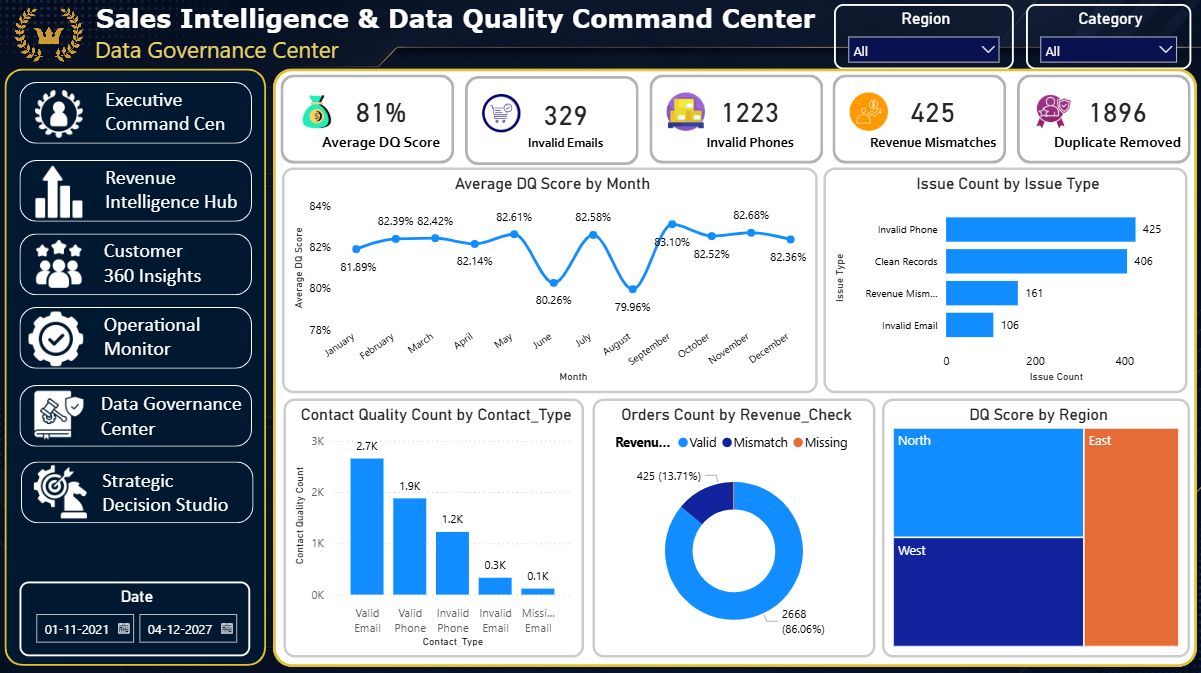

What the dashboard file says about the page in this screenshot:
{"tool":"powerbi","page":{"name":"Data Governance Center","canvas":[1280,720],"ordinal":4},"visuals":[{"type":"group","id":"g1","title":"Base","box":[0,0,1280.7,708.7],"z":0},{"type":"textbox","box":[0,0,1280.7,80.9],"z":0,"group":"g18"},{"type":"shape","box":[292.7,74.8,979.8,634.7],"z":0,"group":"g2"},{"type":"shape","box":[7.7,75.1,277.3,633.6],"z":0,"group":"g1"},{"type":"shape","box":[300.5,81.8,184.2,94.6],"z":0,"group":"g11"},{"type":"shape","box":[691.5,82.2,184.2,94.6],"z":0,"group":"g9"},{"type":"shape","box":[886.4,82.2,184.2,94.6],"z":0,"group":"g6"},{"type":"shape","box":[1081.3,82.2,184.2,94.6],"z":0,"group":"g3"},{"type":"shape","box":[496.6,83.9,184.2,94.6],"z":0,"group":"g10"},{"type":"textbox","box":[109.5,88.7,161.8,67.4],"z":0,"group":"g17"},{"type":"textbox","box":[109.3,172,161.8,67.4],"z":0,"group":"g16"},{"type":"textbox","box":[107.6,250.2,148.3,65.5],"z":0,"group":"g15"},{"type":"textbox","box":[107.3,328,161.8,65.5],"z":0,"group":"g14"},{"type":"textbox","box":[105.5,411,167.5,65.5],"z":0,"group":"g13"},{"type":"textbox","box":[107.6,492.8,161.8,63.6],"z":0,"group":"g12"},{"type":"donutChart","fields":{"Category":["Fact_Sales.Revenue_Check"],"Y":["Measure.Orders Count"]},"box":[630.9,425,300,274.5],"z":577,"group":"g5"},{"type":"treemap","title":"DQ Score by Region","fields":{"Details":["Dim_Location.Region"],"Values":["Measure.Average DQ Score"]},"box":[937.2,425,326.6,275],"z":585,"group":"g5"},{"type":"clusteredColumnChart","fields":{"Y":["Measure.Contact Quality Count"],"Category":["Contact_Quality.Contact_Type"]},"box":[303.3,425,318.6,275],"z":593,"group":"g5"},{"type":"clusteredBarChart","fields":{"Y":["Measure.Issue Count"],"Category":["DQ_Issue.Issue Type"]},"box":[877.1,179.3,386.1,239.5],"z":625,"group":"g4"},{"type":"lineChart","fields":{"Category":["Dim_Date.Date.Variation.Date Hierarchy.Month"],"Y":["Measure.Average DQ Score"]},"box":[302.7,179.9,568.1,239],"z":750,"group":"g4"},{"type":"image","box":[15.4,9.6,77,59.7],"z":1000,"group":"g18"},{"type":"group","id":"g2","title":"Center","box":[292.7,74.8,979.8,634.7],"z":1000},{"type":"card","fields":{"Values":["Measure.Average DQ Score"]},"box":[329.5,81.8,155.3,94.6],"z":1000,"group":"g11"},{"type":"card","fields":{"Values":["Measure.Invalid Phones"]},"box":[720.5,82.2,155.3,94.6],"z":1000,"group":"g9"},{"type":"card","fields":{"Values":["Measure.Revenue Mismatches"]},"box":[915.4,82.2,155.3,94.6],"z":1000,"group":"g6"},{"type":"group","id":"g3","title":"Card-5","box":[1081.3,82.2,182.9,94.4],"z":1000,"group":"g8"},{"type":"card","fields":{"Values":["Measure.Duplicate Records Removed"]},"box":[1110.3,82.2,155.3,94.6],"z":1000,"group":"g3"},{"type":"card","fields":{"Values":["Measure.Invalid Emails"]},"box":[525.6,83.9,155.3,94.6],"z":1000,"group":"g10"},{"type":"shape","box":[23.3,89.1,246.5,65.5],"z":1000,"group":"g17"},{"type":"shape","box":[23.1,172.4,246.5,65.5],"z":1000,"group":"g16"},{"type":"group","id":"g4","title":"Group 2","box":[302.7,179.3,960.5,239.6],"z":1000,"group":"g2"},{"type":"shape","box":[23.4,249.9,246.5,65.5],"z":1000,"group":"g15"},{"type":"shape","box":[23.1,327.4,246.5,65.5],"z":1000,"group":"g14"},{"type":"shape","box":[23.8,410.1,246.5,65.5],"z":1000,"group":"g13"},{"type":"shape","box":[25.7,490.9,246.5,65.5],"z":1000,"group":"g12"},{"type":"group","id":"g5","title":"Group 4","box":[303.3,425,960.5,275],"z":1001,"group":"g7"},{"type":"group","id":"g6","title":"Card-4","box":[886.4,82.2,182.9,94.4],"z":2000,"group":"g8"},{"type":"image","box":[36.8,93,57.8,57.8],"z":2000,"group":"g17"},{"type":"image","box":[317.6,100.6,42,40.9],"z":2000,"group":"g11"},{"type":"image","box":[708.6,101,42,40.9],"z":2000,"group":"g9"},{"type":"image","box":[903.5,101,42,40.9],"z":2000,"group":"g6"},{"type":"image","box":[1098.4,101,42,40.9],"z":2000,"group":"g3"},{"type":"image","box":[513.7,102.7,42,40.9],"z":2000,"group":"g10"},{"type":"image","box":[36.6,176.3,57.8,57.8],"z":2000,"group":"g16"},{"type":"image","box":[36.9,253.8,57.8,57.8],"z":2000,"group":"g15"},{"type":"image","box":[32.2,331.8,57.8,57.8],"z":2000,"group":"g14"},{"type":"image","box":[37.3,414,57.8,57.8],"z":2000,"group":"g13"},{"type":"group","id":"g7","title":"Group 3","box":[303.3,425,960.5,275],"z":2000,"group":"g2"},{"type":"image","box":[39.2,494.8,57.8,57.8],"z":2000,"group":"g12"},{"type":"group","id":"g8","title":"Group 1","box":[300.5,81.8,963.7,96.5],"z":3000,"group":"g2"},{"type":"group","id":"g9","title":"Card-3","box":[691.5,82.2,182.9,94.4],"z":3000,"group":"g8"},{"type":"group","id":"g10","title":"Card-2","box":[496.6,83.9,182.9,94.4],"z":4000,"group":"g8"},{"type":"group","id":"g11","title":"Card-1","box":[300.5,81.8,183.7,94],"z":5000,"group":"g8"},{"type":"slicer","title":"Date","fields":{"Values":["Dim_Date.Date"]},"box":[23.4,618.7,245,79.5],"z":5000,"group":"g1"},{"type":"group","id":"g12","title":"Button-6","box":[25.7,490.9,246.5,65.5],"z":9000,"group":"g1"},{"type":"group","id":"g13","title":"Button-5","box":[23.8,410.1,249.3,66.4],"z":9062,"group":"g1"},{"type":"group","id":"g14","title":"Button-4","box":[23.1,327.4,246.5,66.1],"z":9125,"group":"g1"},{"type":"group","id":"g15","title":"Button-3","box":[23.4,249.9,246.5,65.8],"z":9250,"group":"g1"},{"type":"group","id":"g16","title":"Button-2","box":[23.1,172,247.9,67.4],"z":9500,"group":"g1"},{"type":"group","id":"g17","title":"Button-1","box":[23.3,88.7,248.4,67.4],"z":10000,"group":"g1"},{"type":"slicer","title":"Category","fields":{"Values":["Dim_Product.Category"]},"box":[1091.9,5.8,175.2,69.3],"z":10500,"group":"g1"},{"type":"slicer","title":"Region","fields":{"Values":["Dim_Location.Region"]},"box":[887.8,5.8,190.7,69.3],"z":11000,"group":"g1"},{"type":"group","id":"g18","title":"Header","box":[0,0,1280.7,80.9],"z":11500,"group":"g1"}]}

Visuals, with their boxes in screenshot pixels (x1, y1, x2, y2), scaled from the page's 1280x720 canvas onto the 1201x673 screenshot:
"Base" group: locate(0, 0, 1200, 662)
textbox: locate(0, 0, 1200, 76)
shape: locate(275, 70, 1194, 663)
shape: locate(7, 70, 267, 662)
shape: locate(282, 76, 455, 165)
shape: locate(649, 77, 822, 165)
shape: locate(832, 77, 1005, 165)
shape: locate(1015, 77, 1187, 165)
shape: locate(466, 78, 639, 167)
textbox: locate(103, 83, 255, 146)
textbox: locate(103, 161, 254, 224)
textbox: locate(101, 234, 240, 295)
textbox: locate(101, 307, 252, 368)
textbox: locate(99, 384, 256, 445)
textbox: locate(101, 461, 253, 520)
donutChart - Fact_Sales.Revenue_Check x Measure.Orders Count: locate(592, 397, 873, 654)
"DQ Score by Region" treemap: locate(879, 397, 1186, 654)
clusteredColumnChart - Measure.Contact Quality Count x Contact_Quality.Contact_Type: locate(285, 397, 584, 654)
clusteredBarChart - Measure.Issue Count x DQ_Issue.Issue Type: locate(823, 168, 1185, 391)
lineChart - Dim_Date.Date.Variation.Date Hierarchy.Month x Measure.Average DQ Score: locate(284, 168, 817, 392)
image: locate(14, 9, 87, 65)
"Center" group: locate(275, 70, 1194, 663)
card - Measure.Average DQ Score: locate(309, 76, 455, 165)
card - Measure.Invalid Phones: locate(676, 77, 822, 165)
card - Measure.Revenue Mismatches: locate(859, 77, 1005, 165)
"Card-5" group: locate(1015, 77, 1186, 165)
card - Measure.Duplicate Records Removed: locate(1042, 77, 1187, 165)
card - Measure.Invalid Emails: locate(493, 78, 639, 167)
shape: locate(22, 83, 253, 145)
shape: locate(22, 161, 253, 222)
"Group 2" group: locate(284, 168, 1185, 392)
shape: locate(22, 234, 253, 295)
shape: locate(22, 306, 253, 367)
shape: locate(22, 383, 254, 445)
shape: locate(24, 459, 255, 520)
"Group 4" group: locate(285, 397, 1186, 654)
"Card-4" group: locate(832, 77, 1003, 165)
image: locate(35, 87, 89, 141)
image: locate(298, 94, 337, 132)
image: locate(665, 94, 704, 133)
image: locate(848, 94, 887, 133)
image: locate(1031, 94, 1070, 133)
image: locate(482, 96, 521, 134)
image: locate(34, 165, 89, 219)
image: locate(35, 237, 89, 291)
image: locate(30, 310, 84, 364)
image: locate(35, 387, 89, 441)
"Group 3" group: locate(285, 397, 1186, 654)
image: locate(37, 463, 91, 517)
"Group 1" group: locate(282, 76, 1186, 167)
"Card-3" group: locate(649, 77, 820, 165)
"Card-2" group: locate(466, 78, 638, 167)
"Card-1" group: locate(282, 76, 454, 164)
"Date" slicer: locate(22, 578, 252, 653)
"Button-6" group: locate(24, 459, 255, 520)
"Button-5" group: locate(22, 383, 256, 445)
"Button-4" group: locate(22, 306, 253, 368)
"Button-3" group: locate(22, 234, 253, 295)
"Button-2" group: locate(22, 161, 254, 224)
"Button-1" group: locate(22, 83, 255, 146)
"Category" slicer: locate(1025, 5, 1189, 70)
"Region" slicer: locate(833, 5, 1012, 70)
"Header" group: locate(0, 0, 1200, 76)
